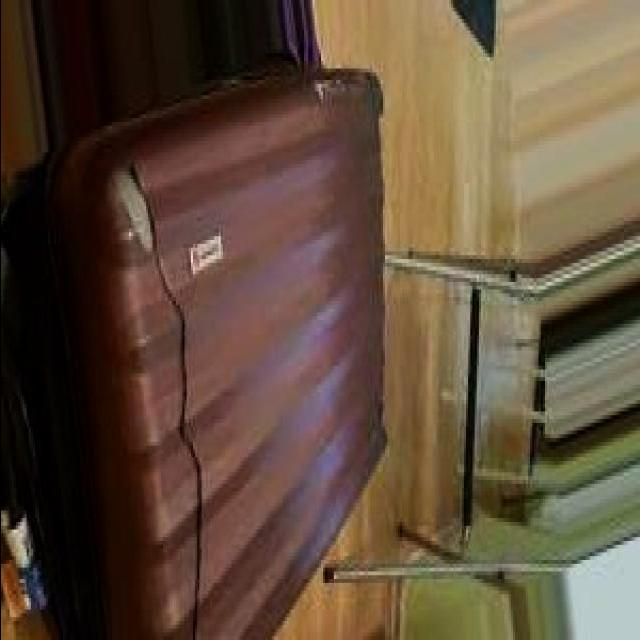Damage-bag: (111, 165, 202, 640), (313, 82, 339, 100)
